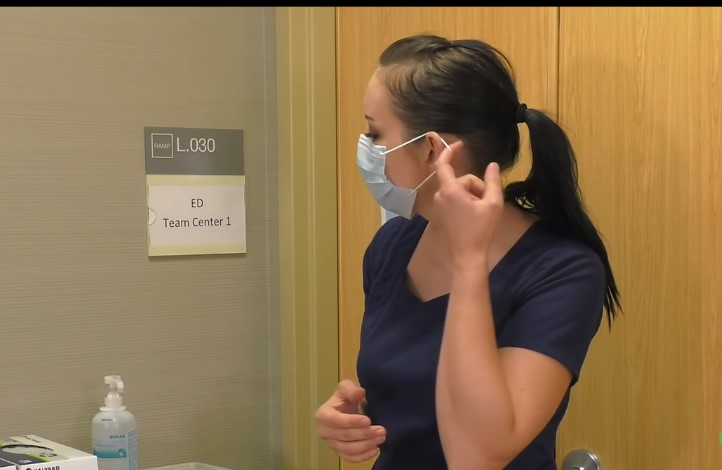face_with_mask: (352, 38, 526, 228)
